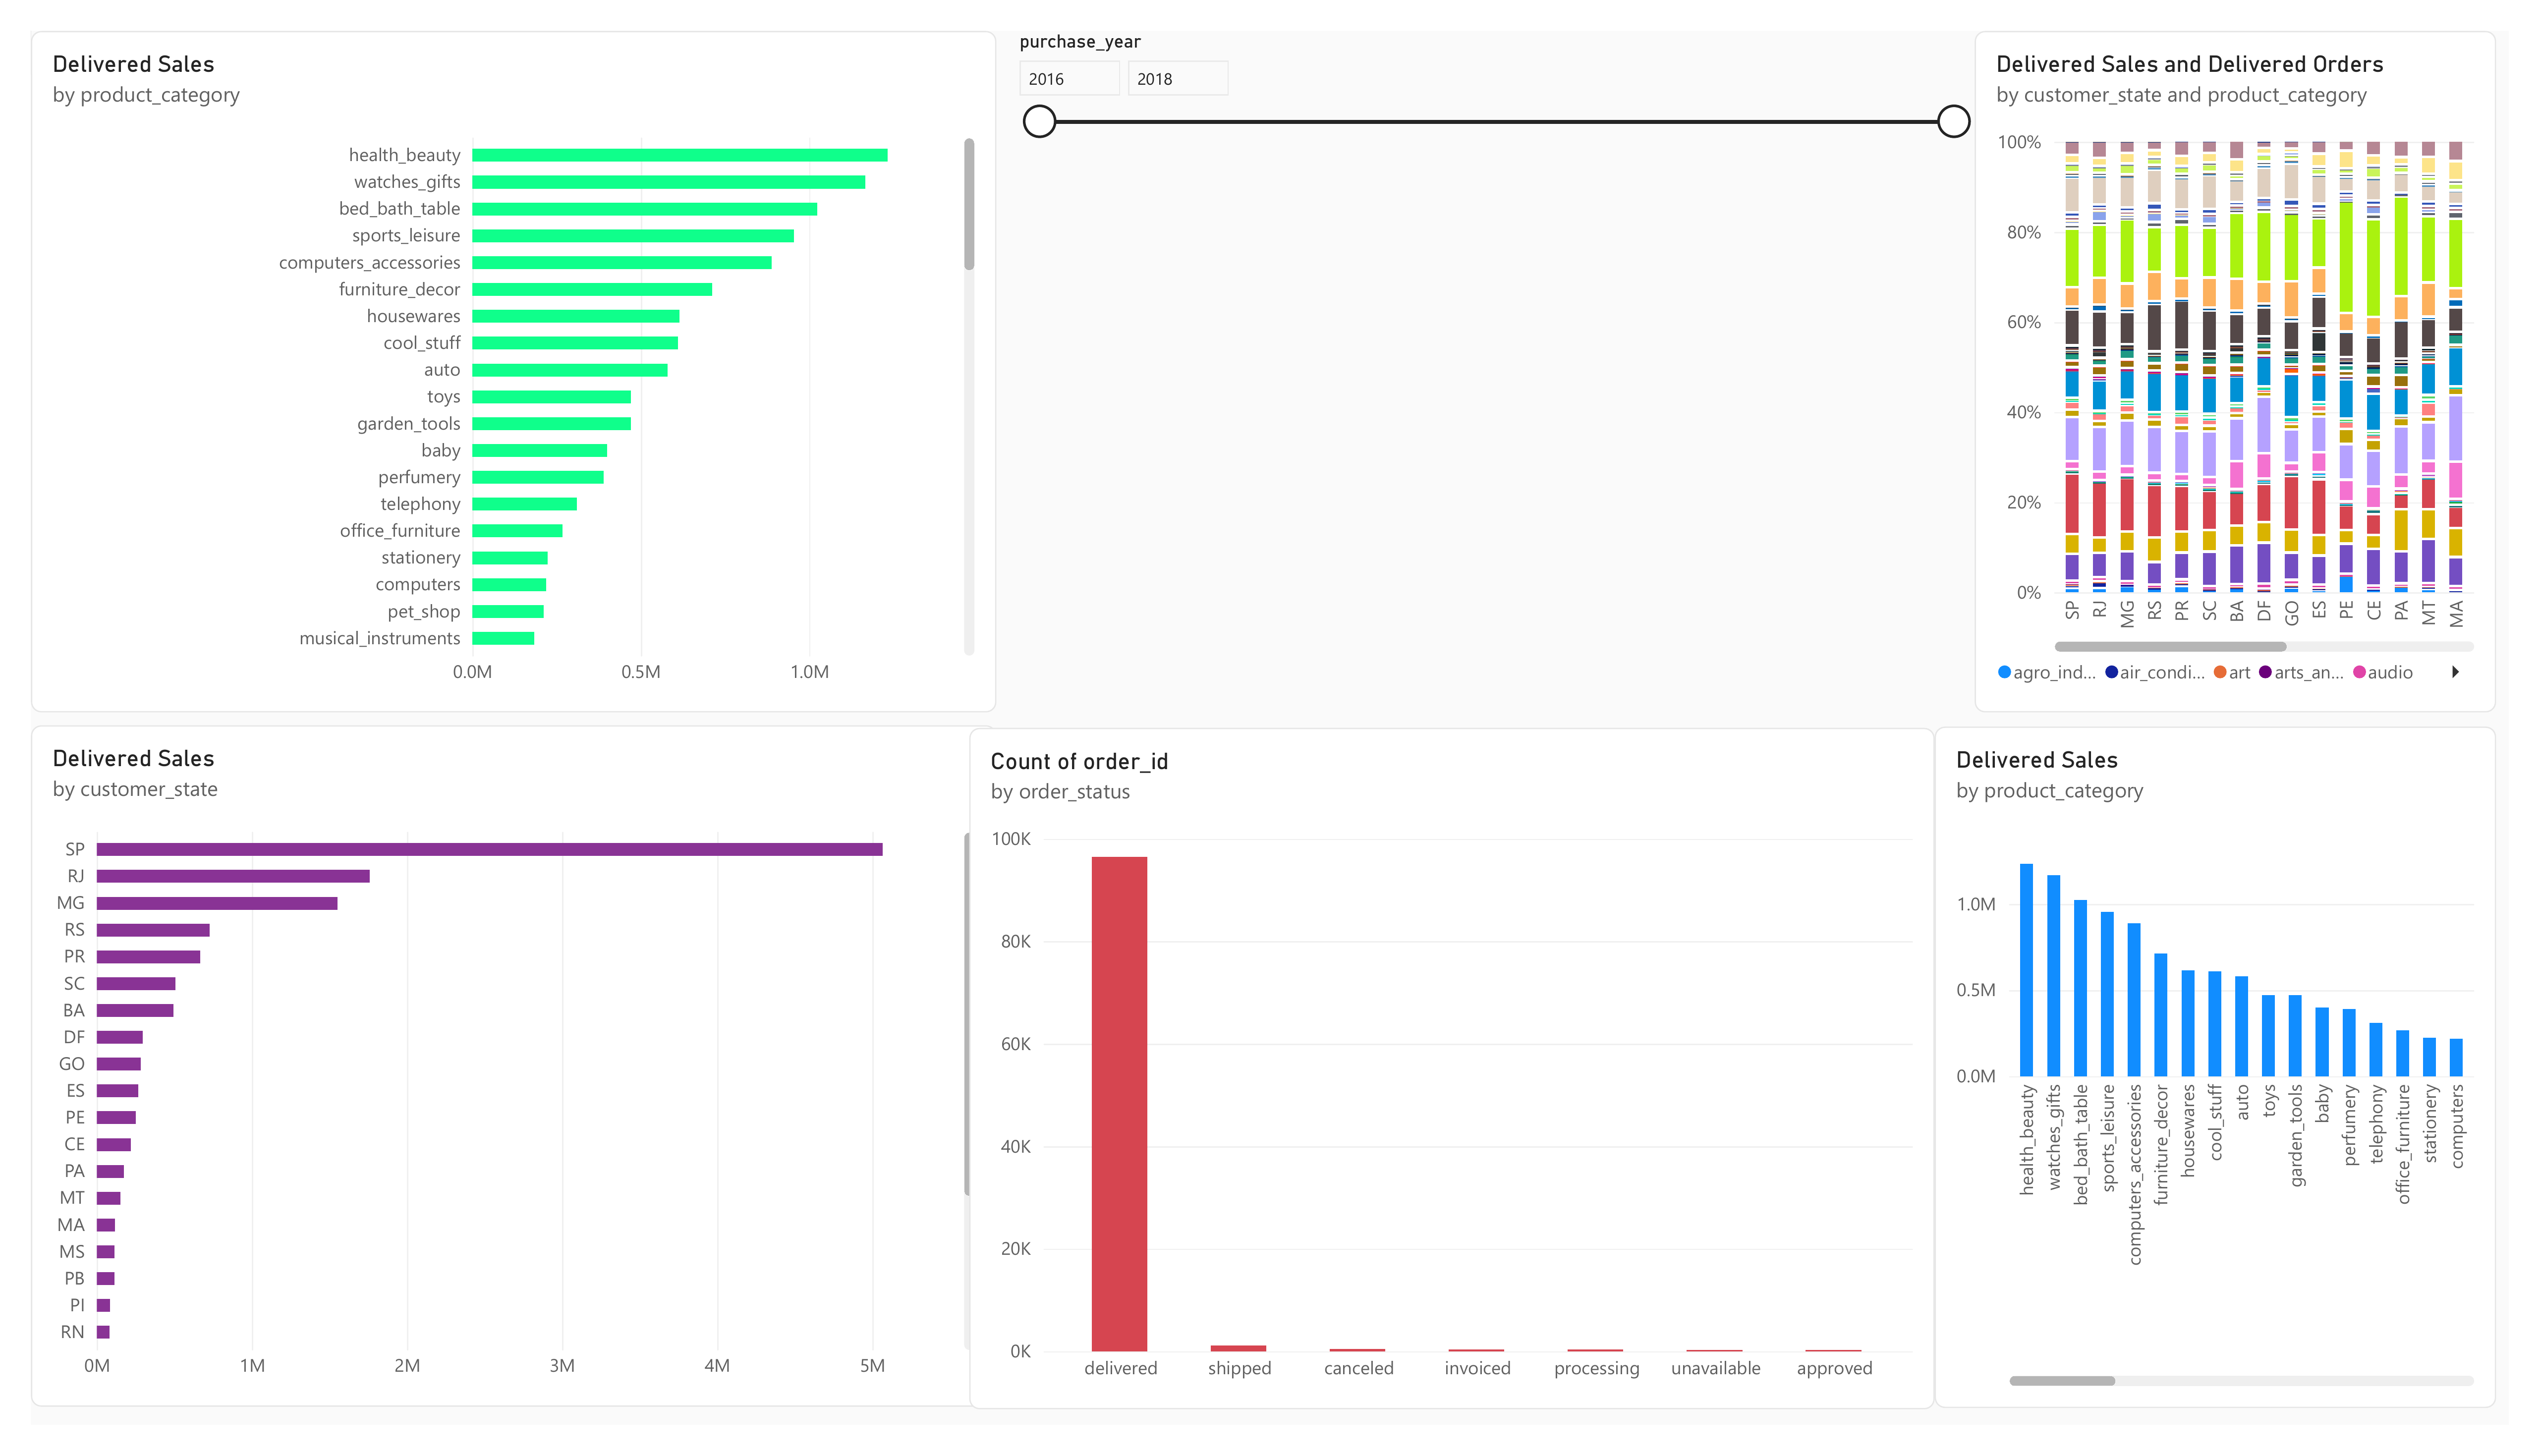

This screenshot's page, from the dashboard's own definition file:
{"tool":"powerbi","page":{"name":" Executive Summary","canvas":[1920,1080],"ordinal":1},"visuals":[{"type":"clusteredBarChart","fields":{"Category":["SalesAnalysis.product_category"],"Y":["SalesAnalysis.Delivered Sales"]},"box":[281.7,170,582.5,455],"z":0},{"type":"clusteredBarChart","fields":{"Category":["SalesAnalysis.customer_state"],"Y":["SalesAnalysis.Delivered Sales"]},"box":[865,640,535,440],"z":1000},{"type":"slicer","fields":{"Values":["SalesAnalysis.purchase_year"]},"box":[40,200,205,248.3],"z":2000},{"type":"clusteredColumnChart","fields":{"Category":["SalesAnalysis.order_status"],"Y":["Count(SalesAnalysis.order_id)"]},"box":[281.7,640,583.3,440],"z":3000},{"type":"lineClusteredColumnComboChart","fields":{"Category":["SalesAnalysis.product_category"],"Y":["SalesAnalysis.Delivered Sales"]},"box":[1400,640,435,440],"z":4000},{"type":"hundredPercentStackedColumnChart","fields":{"Category":["SalesAnalysis.customer_state"],"Series":["SalesAnalysis.product_category"],"Y":["SalesAnalysis.Delivered Orders"]},"box":[865,170,970,455],"z":5000},{"type":"slicer","fields":{"Values":["SalesAnalysis.product_id","SalesAnalysis.seller_state"]},"box":[40,540,205,248],"z":6000}]}

Visuals, with their boxes in screenshot pixels (x1, y1, x2, y2), scaled from the page's 1920x1080 canvas onto the 2540x1456 screenshot:
clusteredBarChart - SalesAnalysis.product_category x SalesAnalysis.Delivered Sales: bbox=[373, 229, 1143, 842]
clusteredBarChart - SalesAnalysis.customer_state x SalesAnalysis.Delivered Sales: bbox=[1144, 863, 1852, 1456]
slicer - SalesAnalysis.purchase_year: bbox=[53, 270, 324, 605]
clusteredColumnChart - SalesAnalysis.order_status x Count(SalesAnalysis.order_id): bbox=[373, 863, 1144, 1456]
lineClusteredColumnComboChart - SalesAnalysis.product_category x SalesAnalysis.Delivered Sales: bbox=[1852, 863, 2427, 1456]
hundredPercentStackedColumnChart - SalesAnalysis.customer_state x SalesAnalysis.product_category: bbox=[1144, 229, 2427, 842]
slicer - SalesAnalysis.product_id x SalesAnalysis.seller_state: bbox=[53, 728, 324, 1063]
